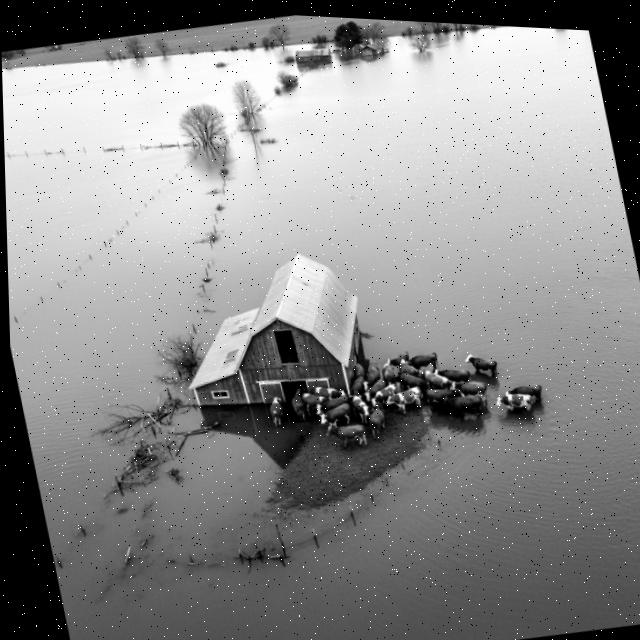cow: (437, 387, 488, 423), (383, 383, 431, 419), (323, 418, 371, 454), (499, 380, 552, 410), (446, 373, 492, 405), (463, 347, 504, 382), (363, 394, 392, 443), (422, 380, 467, 411), (298, 384, 335, 420), (316, 398, 355, 432), (495, 388, 537, 418), (305, 379, 350, 407), (431, 362, 474, 391), (404, 347, 446, 376), (346, 388, 376, 427), (397, 368, 437, 397), (366, 380, 406, 409), (312, 393, 354, 420), (419, 364, 453, 393), (357, 359, 384, 393), (287, 384, 310, 420), (362, 375, 392, 402), (266, 392, 287, 429), (382, 347, 415, 370), (343, 372, 370, 400), (397, 356, 426, 382), (378, 359, 399, 388), (350, 359, 370, 383)
